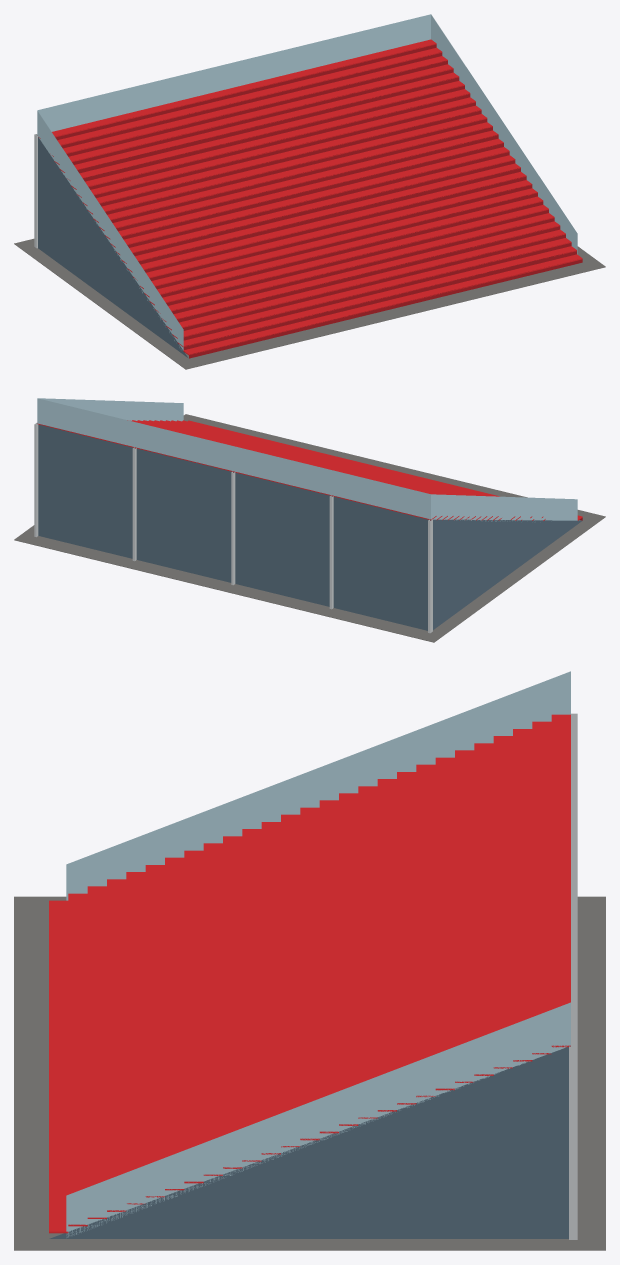
File: tkts_red_steps.glb
3 views of the same model, one above another, from view 1: azimuth 30°, elevation 25°; view 2: azimuth 150°, elevation 25°; view 3: azimuth 270°, elevation 25° (orthographic). The views are drawn at different scales.
Parts seen in each view (by area): view 1: tkts_red_steps; view 2: tkts_red_steps; view 3: tkts_red_steps.
Part boxes in pixels (x1=…): tkts_red_steps: x1=14, y1=14, x2=605, y2=369; tkts_red_steps: x1=14, y1=398, x2=605, y2=642; tkts_red_steps: x1=14, y1=671, x2=605, y2=1250.
Bounding box in the file's own units: 19.2 × 6.02 × 13.6.
1 material, 1 textured.
